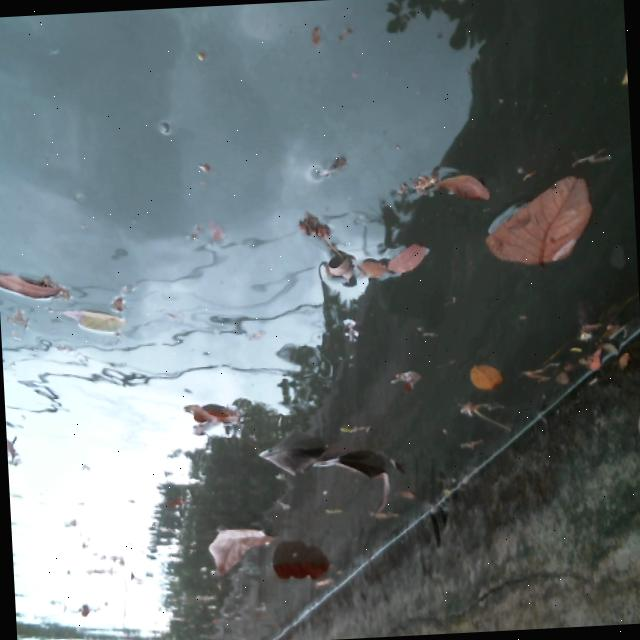Big-leaf: (245, 419, 407, 522), (483, 169, 596, 280), (205, 495, 284, 579), (187, 404, 243, 447), (277, 550, 326, 584)
Small-leaf: (70, 303, 136, 360), (0, 264, 67, 311), (425, 166, 490, 207), (467, 351, 515, 391), (385, 359, 436, 396), (390, 234, 426, 277), (572, 338, 608, 372), (369, 254, 387, 299), (555, 354, 574, 384), (314, 565, 343, 584)
